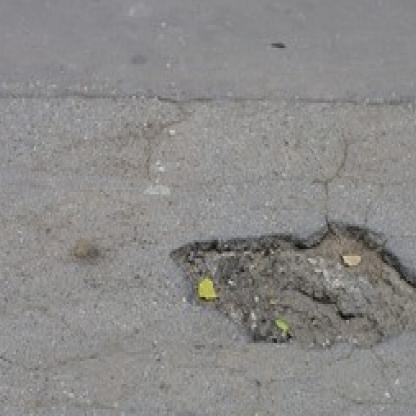pothole: (167, 219, 416, 352)
